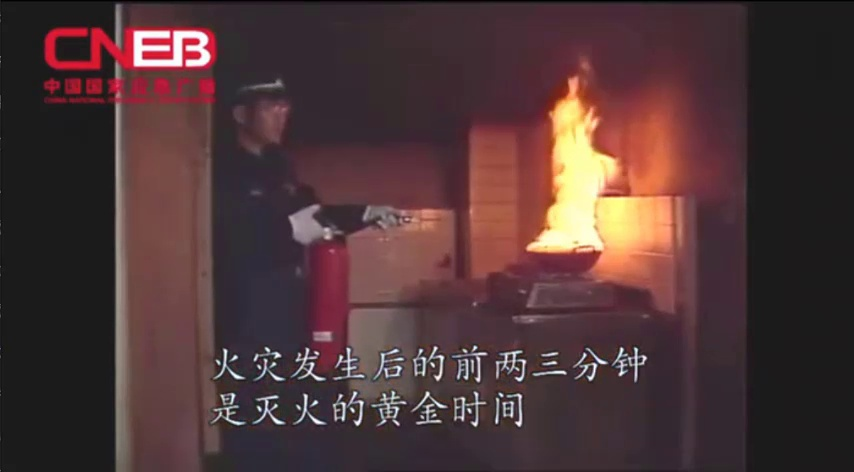fire: (512, 54, 626, 263)
